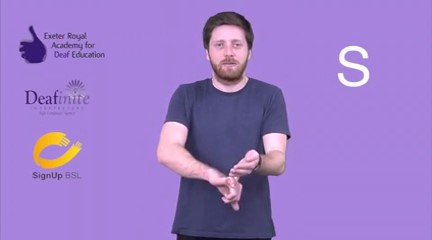S: (212, 146, 266, 215)
